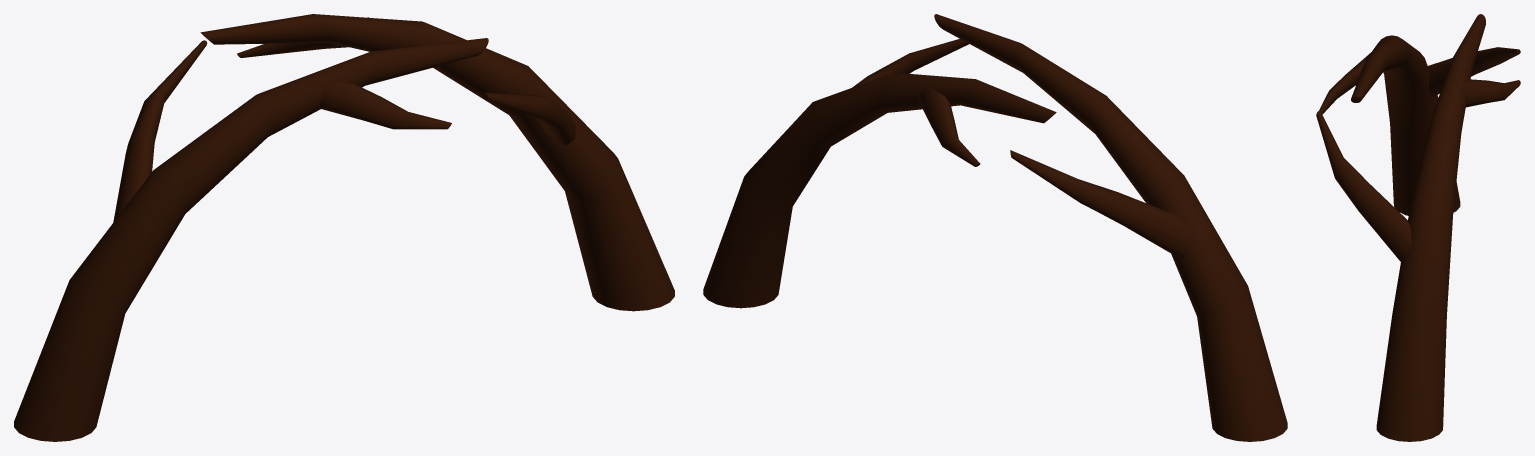
File: tree bridge.FBX
3 renders of one model, left to right at view 1: azimuth 30°, elevation 25°; view 2: azimuth 150°, elevation 25°; view 3: azimuth 270°, elevation 25°, orthographic. The views are drawn at different scales.
Visible parts, largest first — view 1: rotten tree, rotten tree001; view 2: rotten tree, rotten tree001; view 3: rotten tree001, rotten tree.
Part boxes in pixels (left/top/right/bottom): rotten tree: left=14, top=38, right=488, bottom=441; rotten tree001: left=200, top=14, right=674, bottom=311; rotten tree: left=934, top=14, right=1287, bottom=441; rotten tree001: left=703, top=39, right=1056, bottom=308; rotten tree001: left=1316, top=14, right=1520, bottom=441; rotten tree: left=1319, top=35, right=1520, bottom=215.
Size of the model in its own units: 194 by 94.09 by 66.43.
